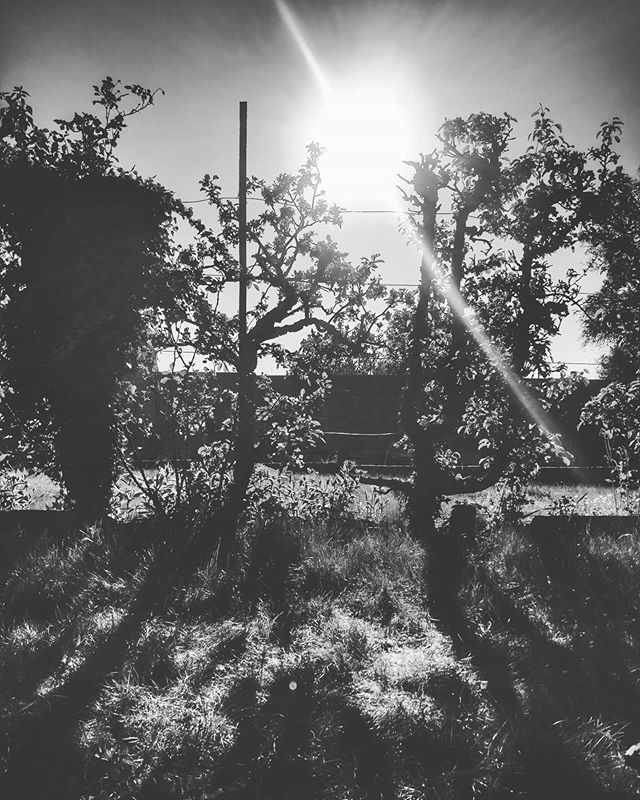grass: (1, 525, 640, 800)
sky: (1, 1, 627, 157)
sun: (293, 93, 407, 204)
tree: (379, 116, 595, 522), (1, 102, 203, 519), (185, 139, 384, 552)
